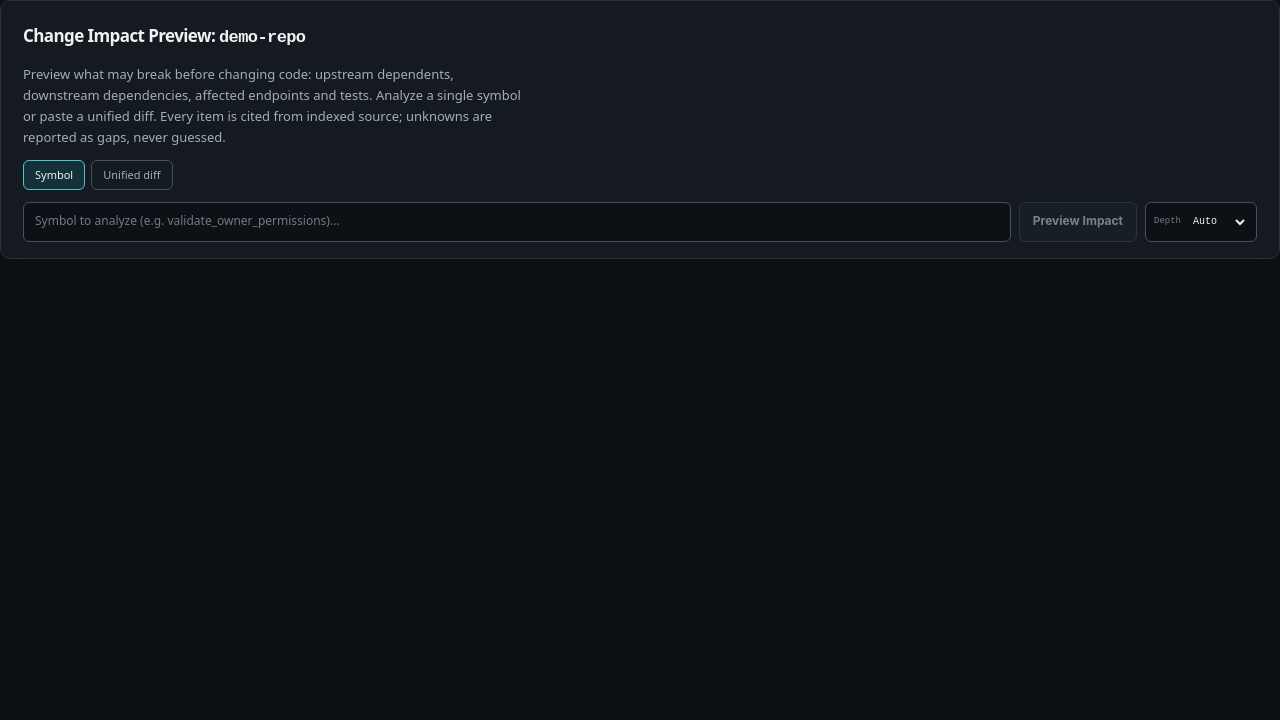
Test case: ImpactPanel › expands a clickable citation into evidence details
Type "load_stats" into the field named "Impact target symbol".
click(517, 222); type("load_stats")  # box left=23, top=202, right=1011, bottom=242
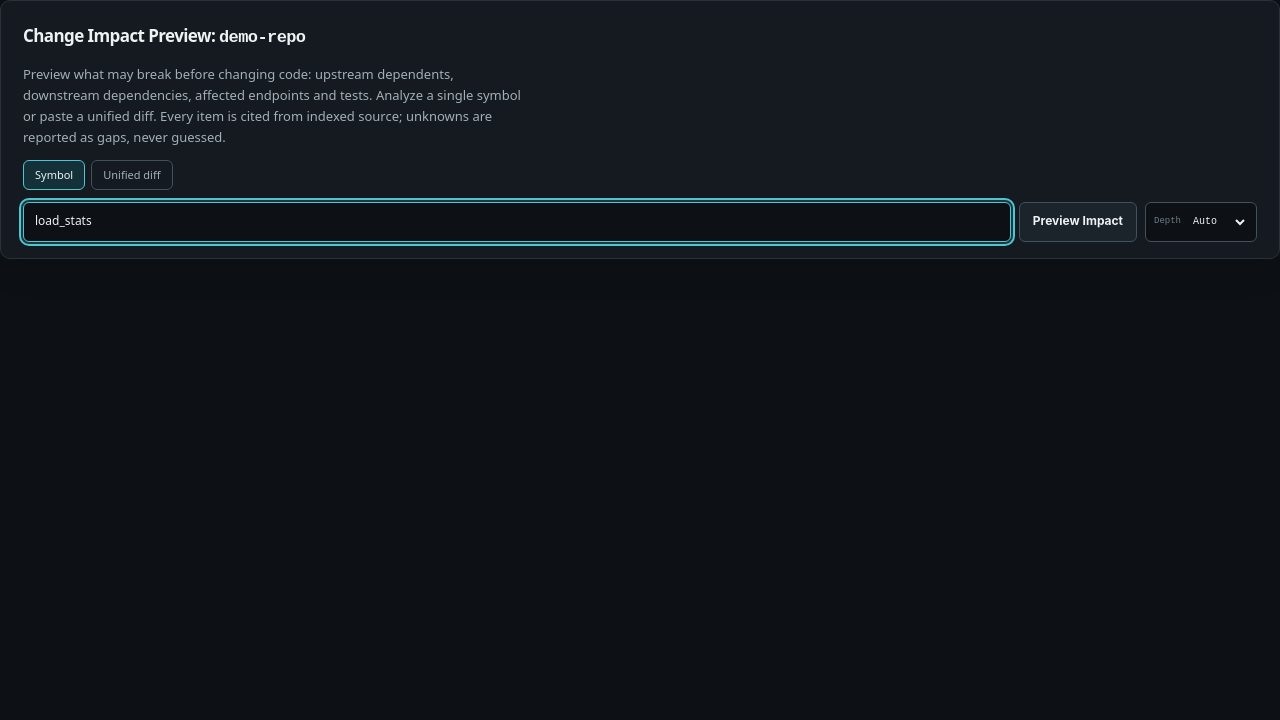
Click the button "Preview Impact".
click(1078, 222)  # box left=1019, top=202, right=1137, bottom=242
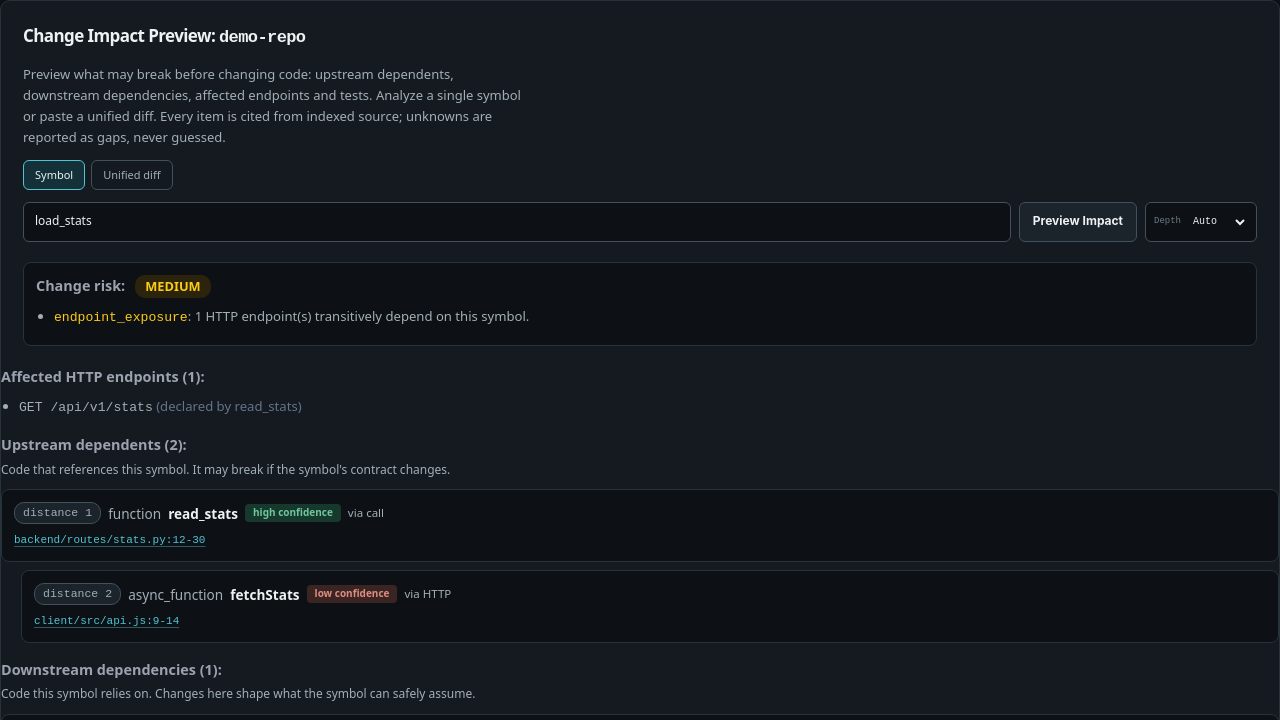
Click the button "backend/routes/stats.py:12-30".
click(110, 541)  # box left=14, top=532, right=206, bottom=549
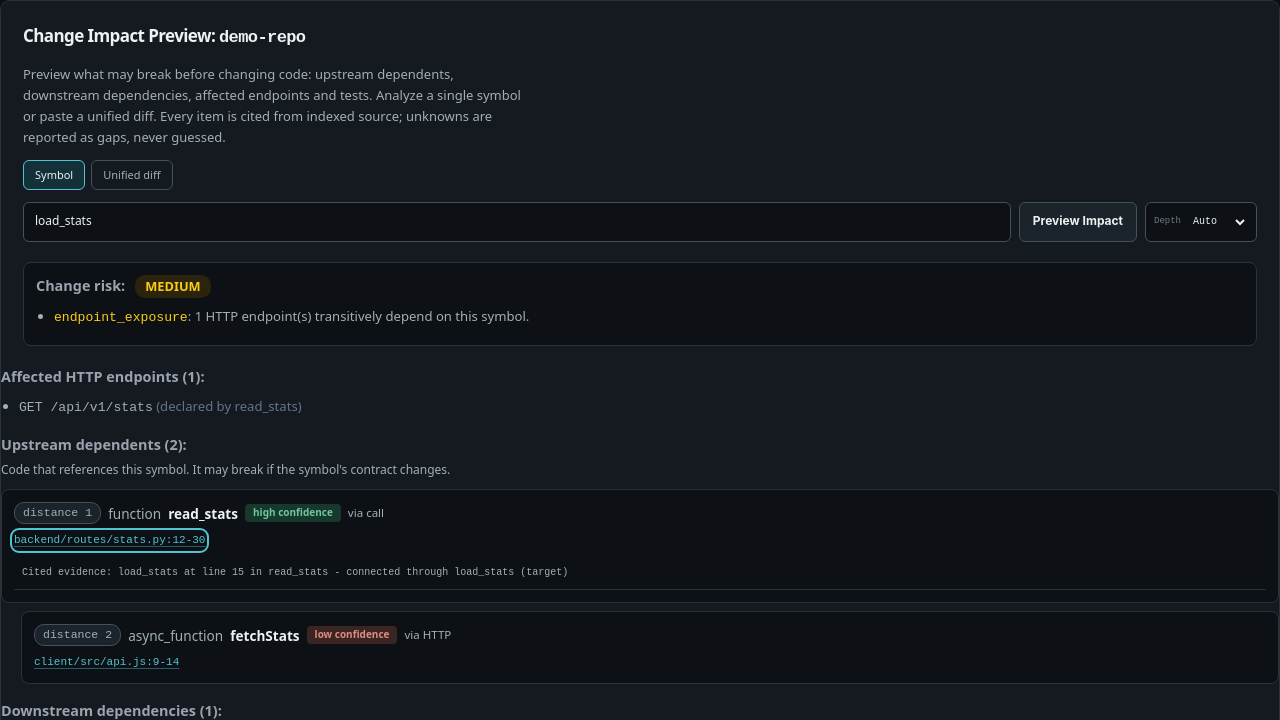
Expected: the text "Cited evidence:" is shown, left=22, top=567, right=118, bottom=578
Expected: the text "load_stats (target)" is shown, left=454, top=567, right=568, bottom=578
